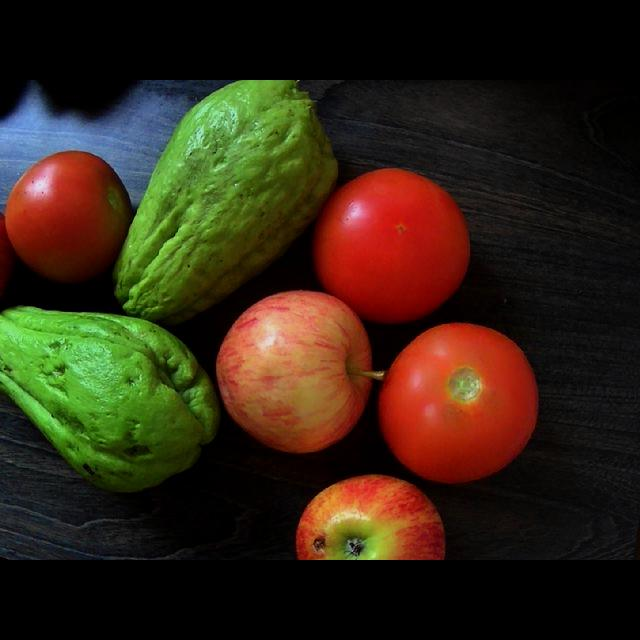chayote: (115, 80, 338, 325), (1, 306, 220, 491)
manzana: (217, 290, 372, 452), (297, 474, 445, 559)
tomate: (380, 323, 538, 483), (314, 169, 470, 323), (6, 151, 133, 283)
